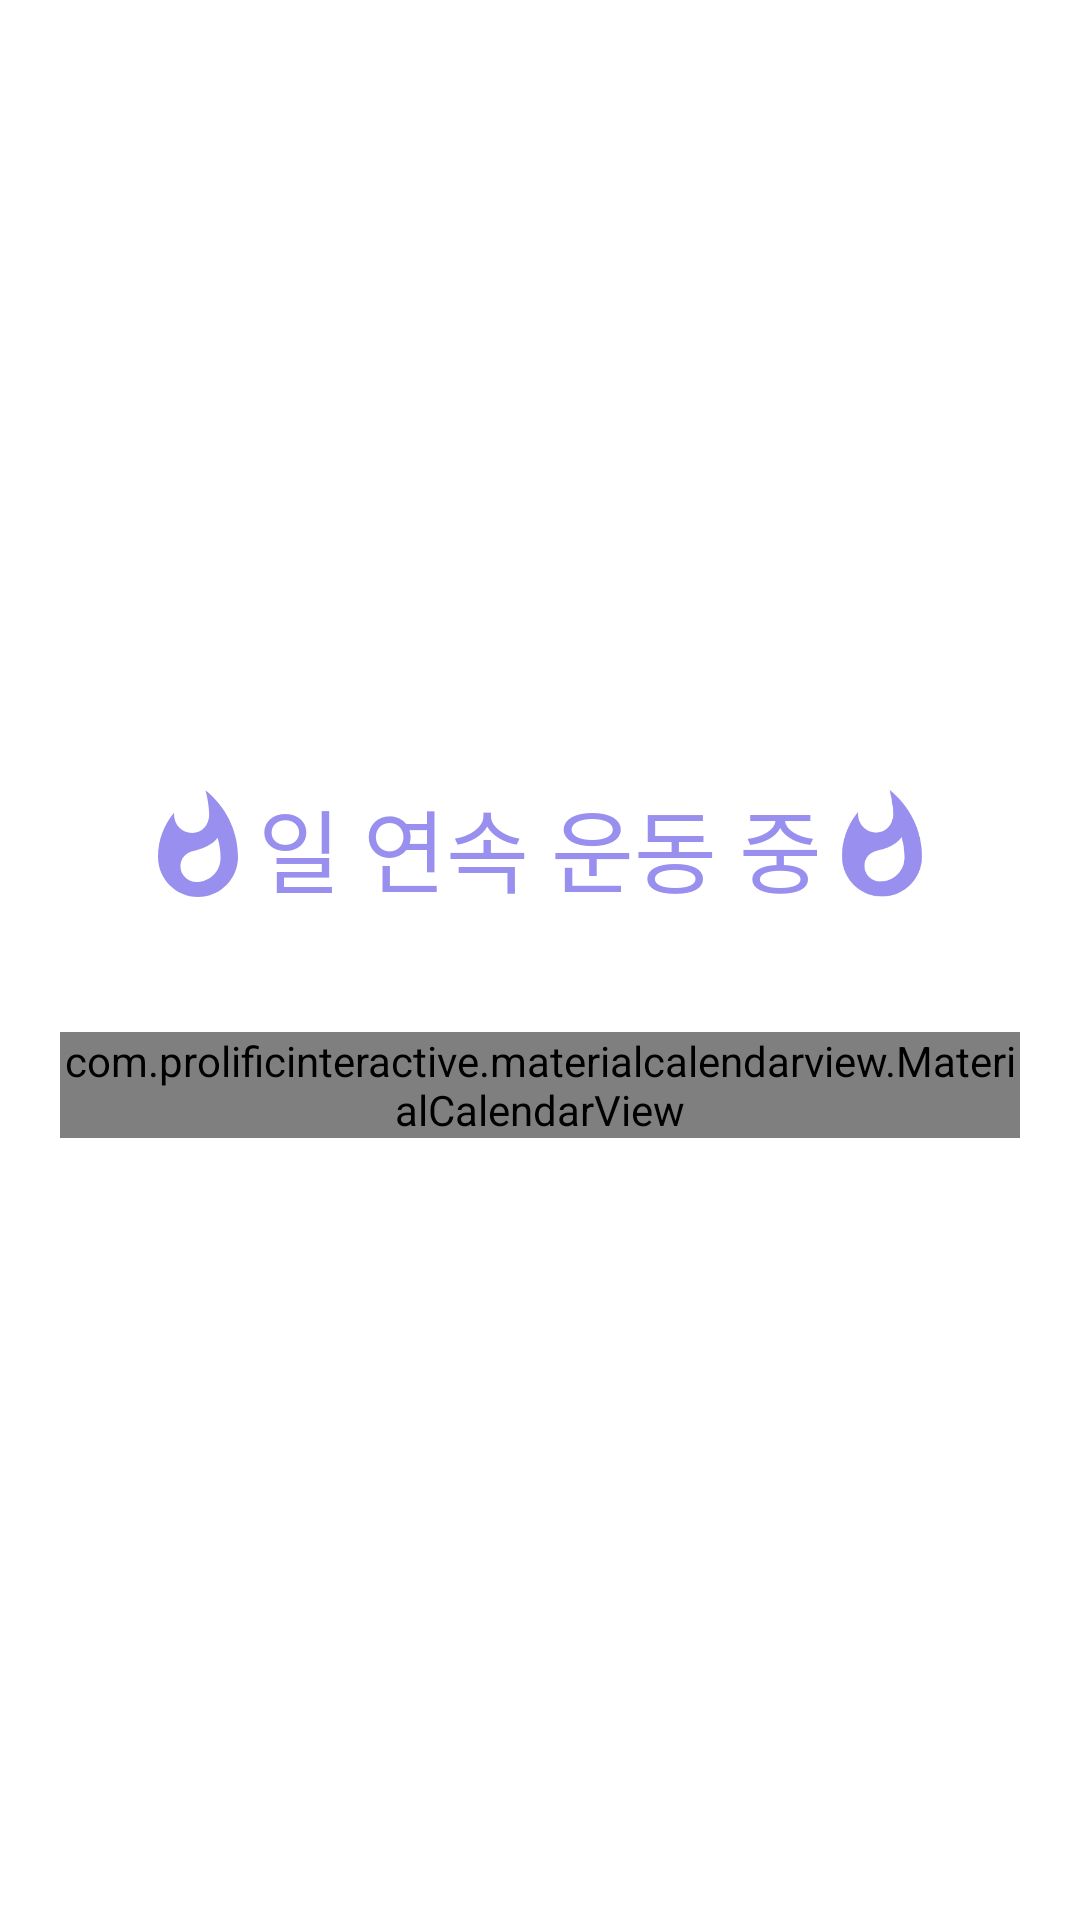

Point at icon controls on the screen. Image size 1080 × 1920, points as (x=x, y=y).
whatshot: (x=882, y=843), (x=198, y=844)
